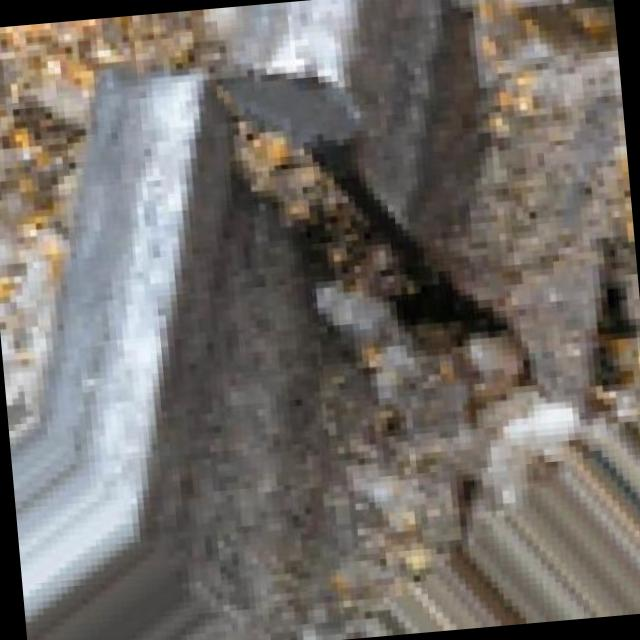defective: (5, 0, 523, 593)
